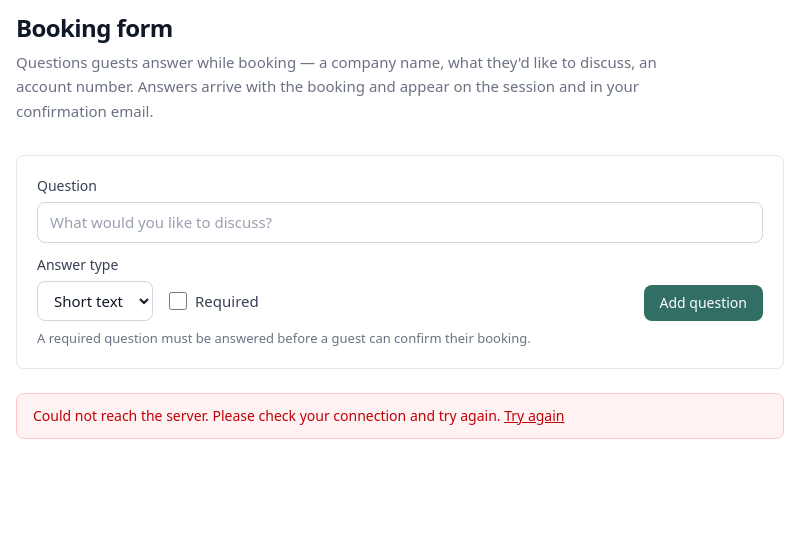
Test: BookingFormPage — the form could not be loaded › retries and renders the questions when the retry succeeds
The width and height of the screenshot is (801, 537).
Expected: the message is shown, [16, 393, 784, 439]
Click the button "Try again": click(534, 416) [504, 406, 564, 426]
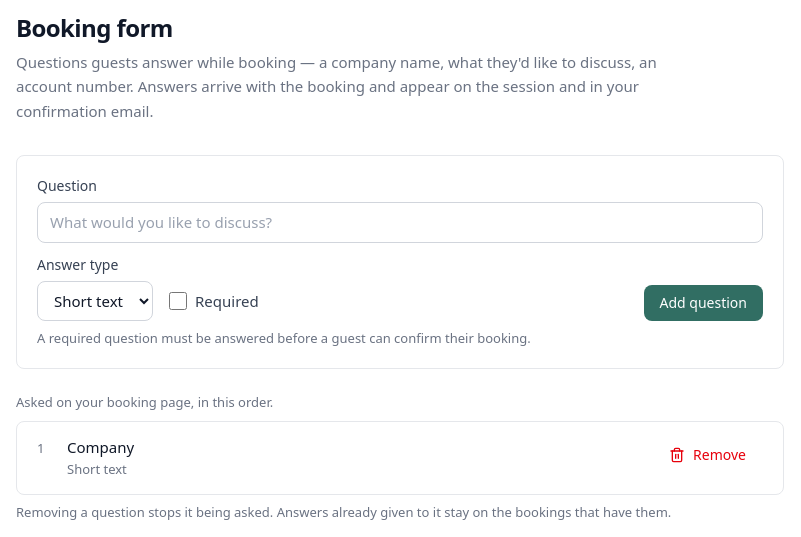
Expected: the text "Company" is shown, [67, 436, 134, 458]
